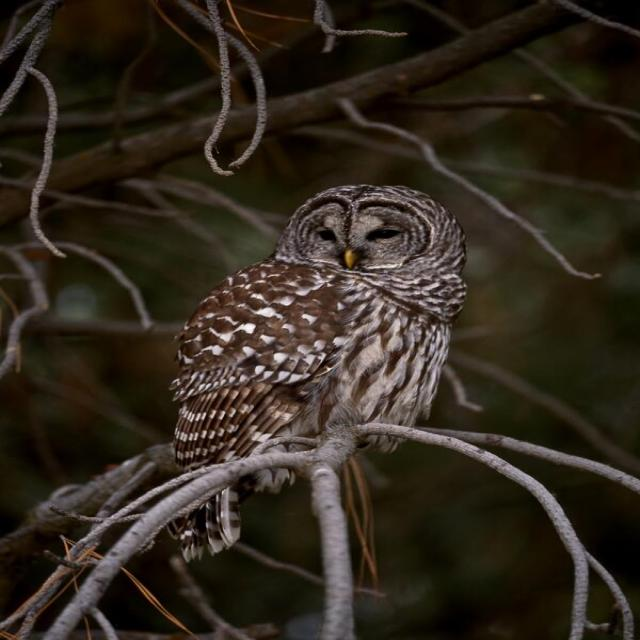Owl: (178, 184, 470, 539)
